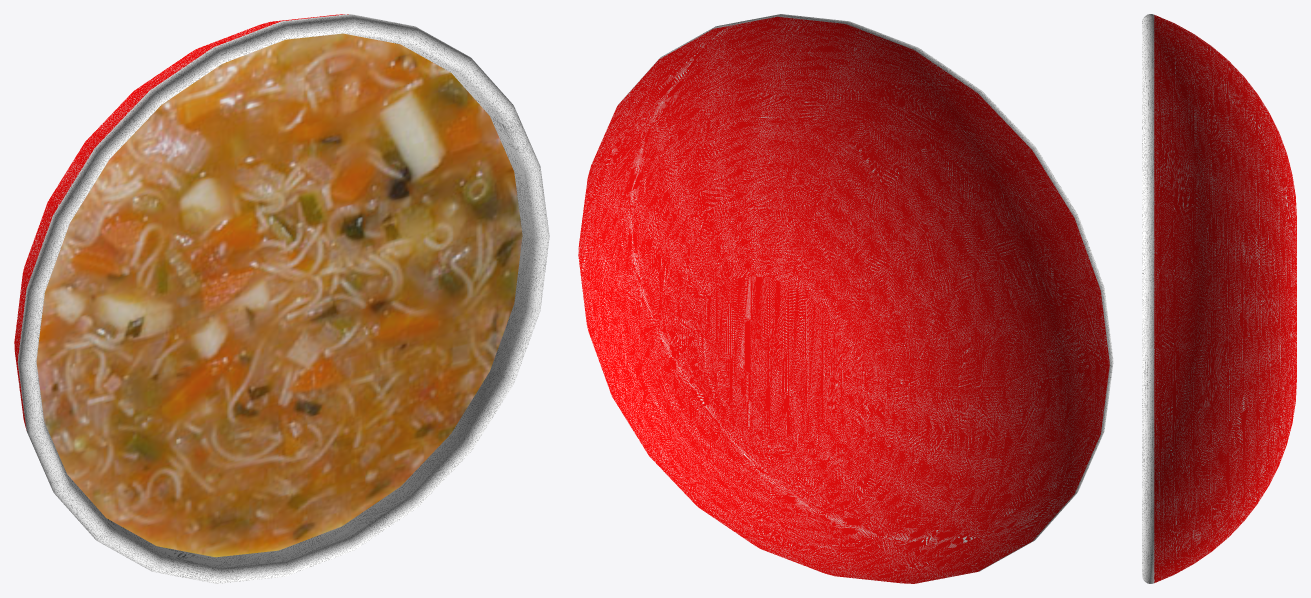
File: model_align.obj
3 views of the same model, side by side, from view 1: azimuth 30°, elevation 25°; view 2: azimuth 150°, elevation 25°; view 3: azimuth 270°, elevation 25° (orthographic). The views are drawn at different scales.
Visible parts, largest first — view 1: mesh1_mesh1-geometry; view 2: mesh1_mesh1-geometry; view 3: mesh1_mesh1-geometry.
Boxes of the visible parts, box(x1,y1,x2,y2) form: mesh1_mesh1-geometry: box(14, 14, 549, 583); mesh1_mesh1-geometry: box(578, 14, 1113, 583); mesh1_mesh1-geometry: box(1142, 14, 1296, 583).
Size of the model in its own units: 0.1415 by 0.1415 by 0.0383.
4 materials, 1 textured.
